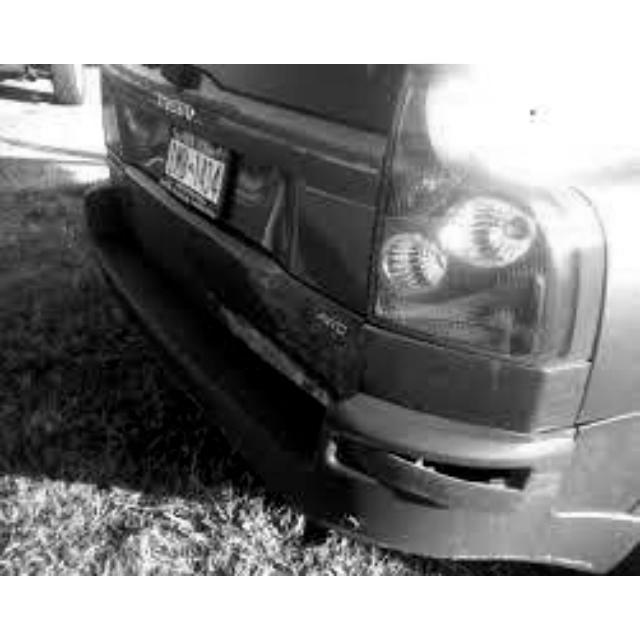rear-bumper-dent: (182, 337, 625, 546)
